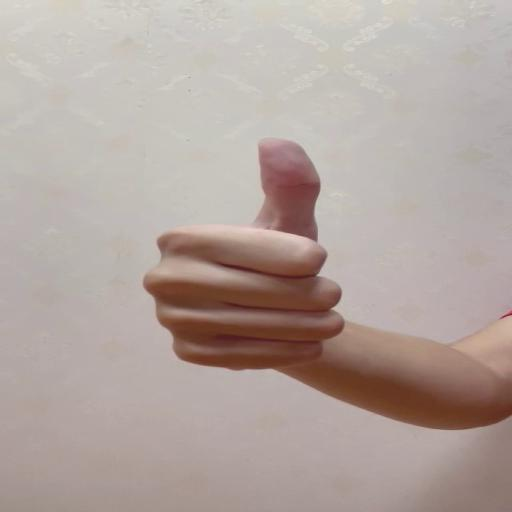thumbs_up: (146, 134, 346, 373)
